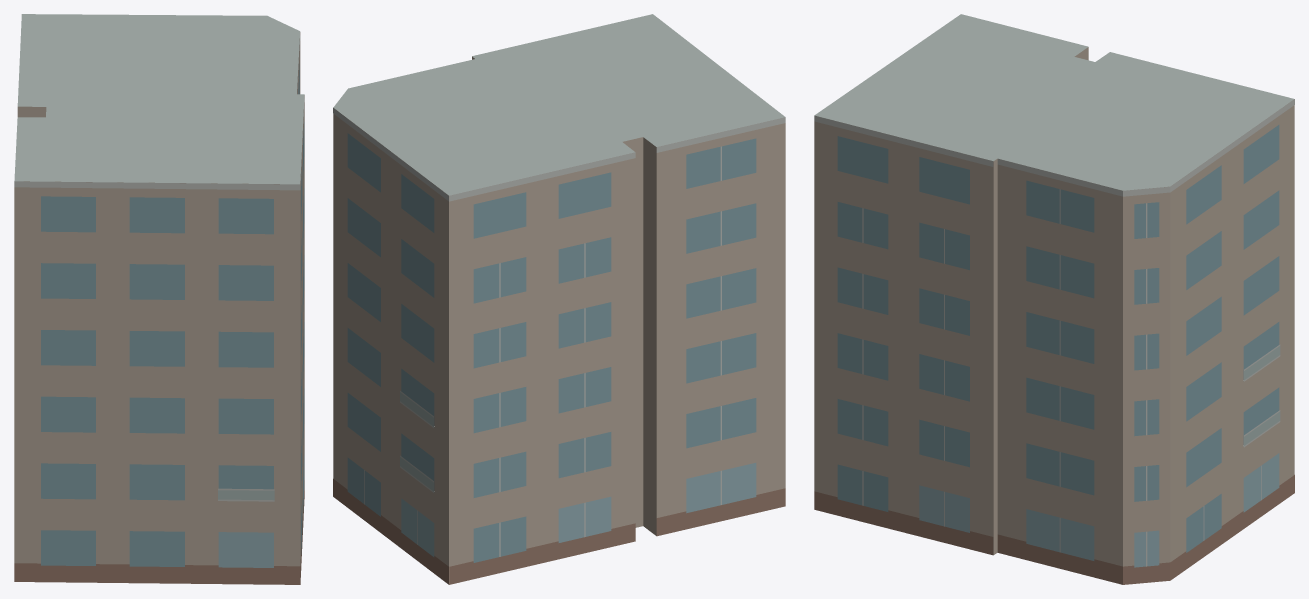
File: survey-upis-32744279.glb
3 renders of one model, left to right at view 1: azimuth 30°, elevation 25°; view 2: azimuth 150°, elevation 25°; view 3: azimuth 270°, elevation 25°, orthographic. The views are drawn at different scales.
Parts seen in each view (by area): view 1: survey-upis-32744279.tmp; view 2: survey-upis-32744279.tmp; view 3: survey-upis-32744279.tmp.
Boxes of the visible parts, x1=… form: survey-upis-32744279.tmp: x1=14, y1=14, x2=304, y2=584; survey-upis-32744279.tmp: x1=333, y1=14, x2=785, y2=584; survey-upis-32744279.tmp: x1=814, y1=14, x2=1294, y2=584.
Bounding box in the file's own units: 15.59 × 16.2 × 17.91.
